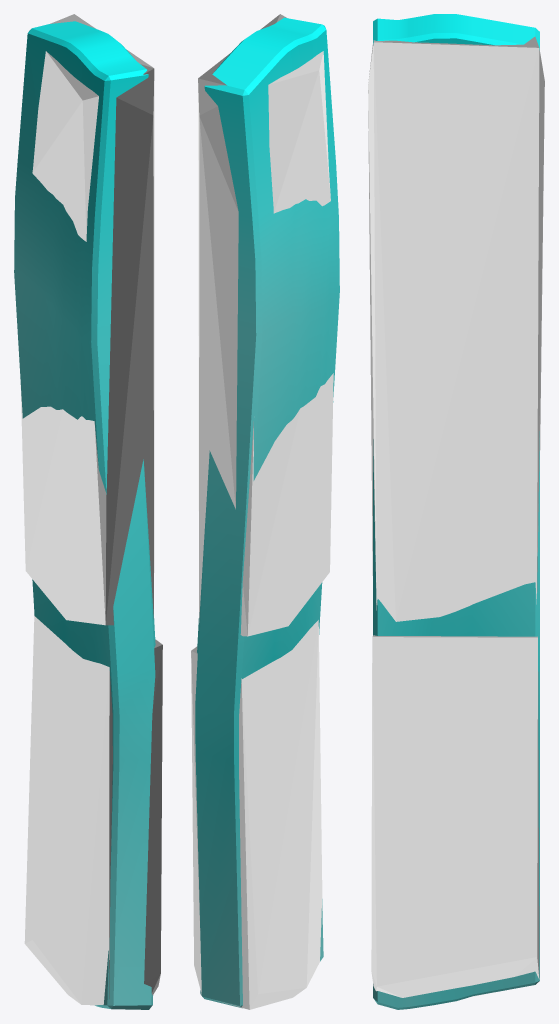
The model's file is SM_WoodenPlanks_04_A.fbx.
3 views of the same model, side by side, from view 1: azimuth 30°, elevation 25°; view 2: azimuth 150°, elevation 25°; view 3: azimuth 270°, elevation 25° (orthographic). The views are drawn at different scales.
Parts seen in each view (by area): view 1: SM_WoodenPlanks_04_ConvexHulls, SM_WoodenPlanks_04_LOD0; view 2: SM_WoodenPlanks_04_ConvexHulls, SM_WoodenPlanks_04_LOD0; view 3: SM_WoodenPlanks_04_ConvexHulls, SM_WoodenPlanks_04_LOD0.
Part boxes in pixels (<box>): SM_WoodenPlanks_04_ConvexHulls: <box>20,14,162,1005</box>; SM_WoodenPlanks_04_LOD0: <box>14,21,155,1009</box>; SM_WoodenPlanks_04_ConvexHulls: <box>191,14,333,1009</box>; SM_WoodenPlanks_04_LOD0: <box>195,17,339,1008</box>; SM_WoodenPlanks_04_ConvexHulls: <box>368,36,544,997</box>; SM_WoodenPlanks_04_LOD0: <box>373,14,539,1009</box>.
Bounding box in the file's own units: 16.02 × 34.28 × 209.
